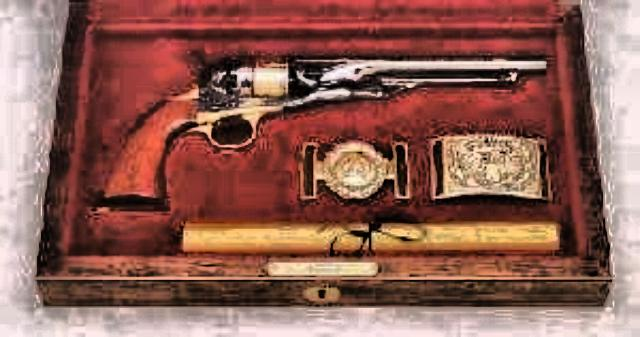pistol: (92, 39, 550, 209)
